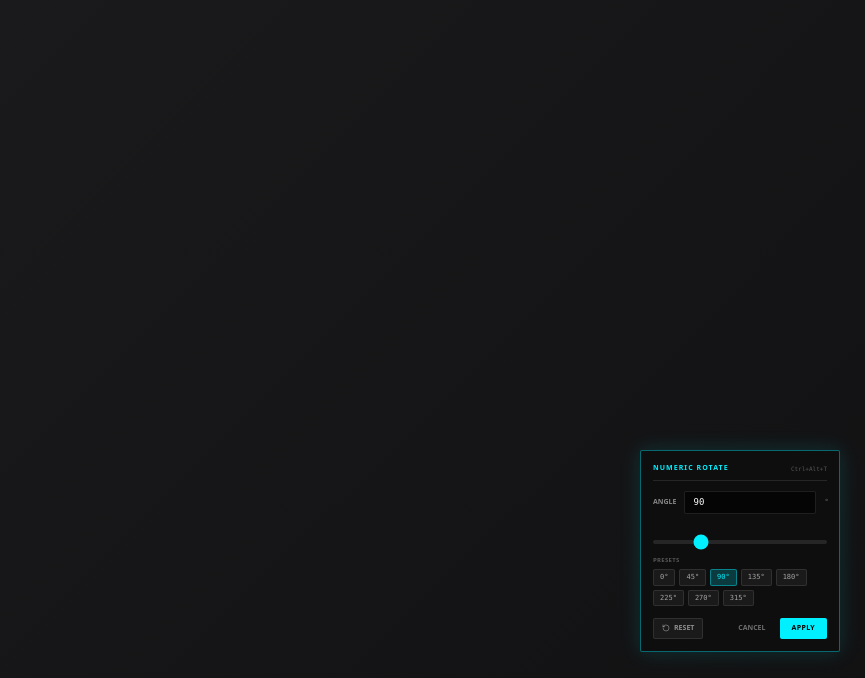
Scenario: NumericRotatePopover — reset › should reset angle to 0
Expected: the field named "Rotation angle in degrees" holds "90", [684, 490, 816, 514]
Click the button "Reset" at (678, 628), box [653, 618, 703, 638]
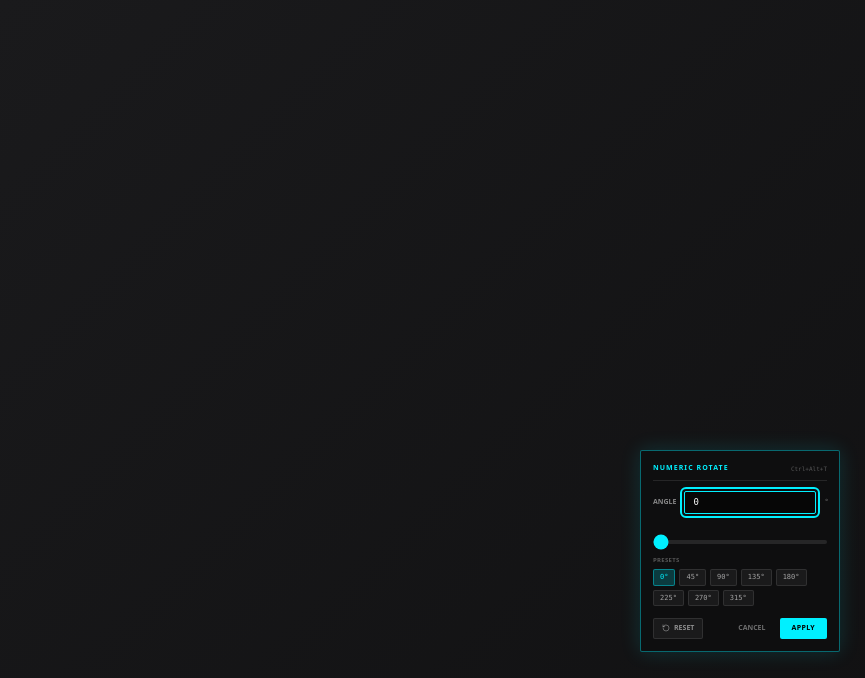
Expected: the field named "Rotation angle in degrees" holds "0", [684, 490, 816, 514]
